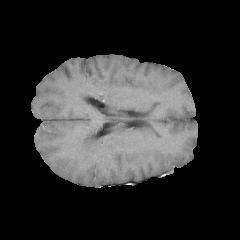glioma: (73, 126, 119, 167)
